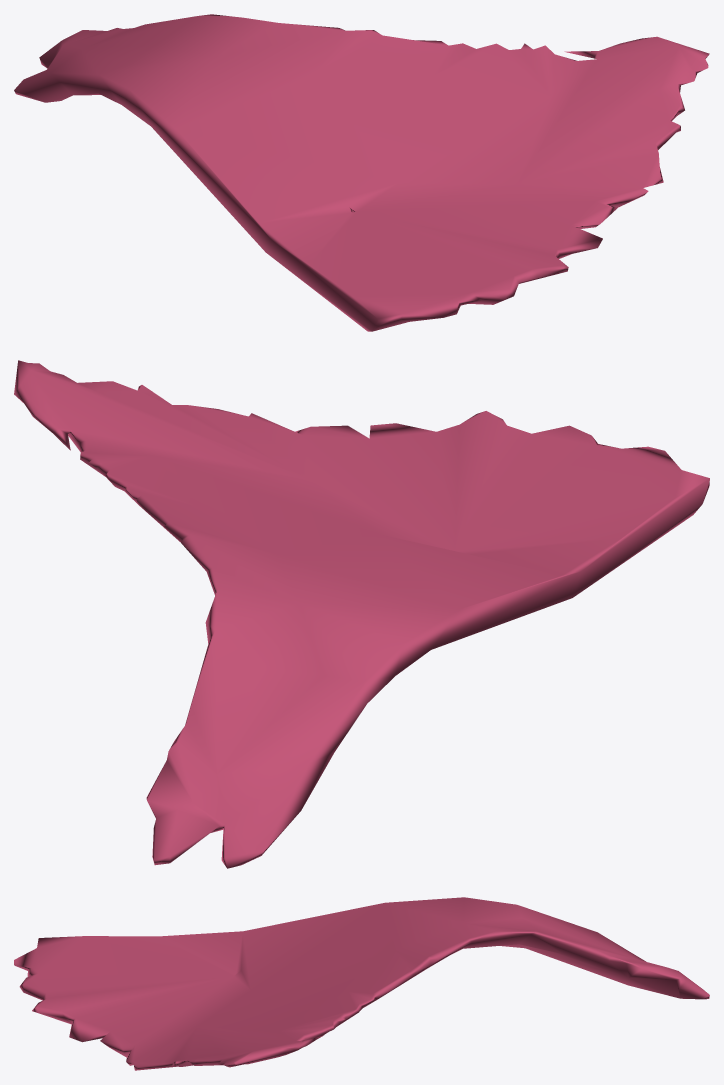
3 renders of one model, top to bottom at view 1: azimuth 30°, elevation 25°; view 2: azimuth 150°, elevation 25°; view 3: azimuth 270°, elevation 25°, orthographic. The views are drawn at different scales.
Parts seen in each view (by area): view 1: 左侧降眉间肌; view 2: 左侧降眉间肌; view 3: 左侧降眉间肌.
Boxes of the visible parts, <box> form: 左侧降眉间肌: <box>14,14,709,331</box>; 左侧降眉间肌: <box>14,360,709,868</box>; 左侧降眉间肌: <box>14,897,709,1070</box>.
Bounding box in the file's own units: 0.0342 × 0.00897 × 0.0538.
